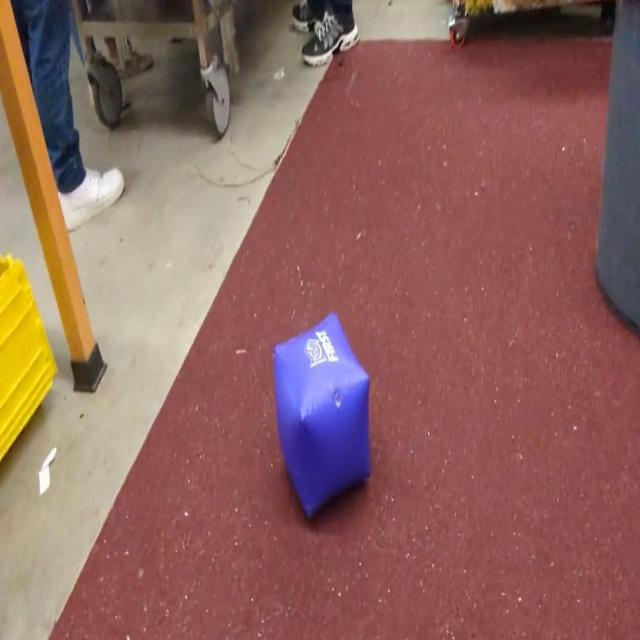frc_cube: (270, 317, 370, 524)
